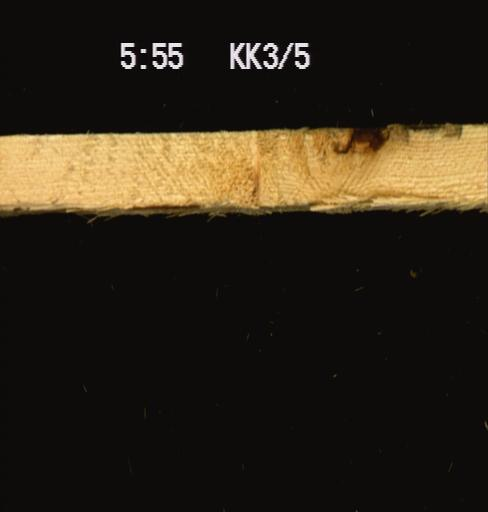edge_knot: (327, 125, 392, 159)
